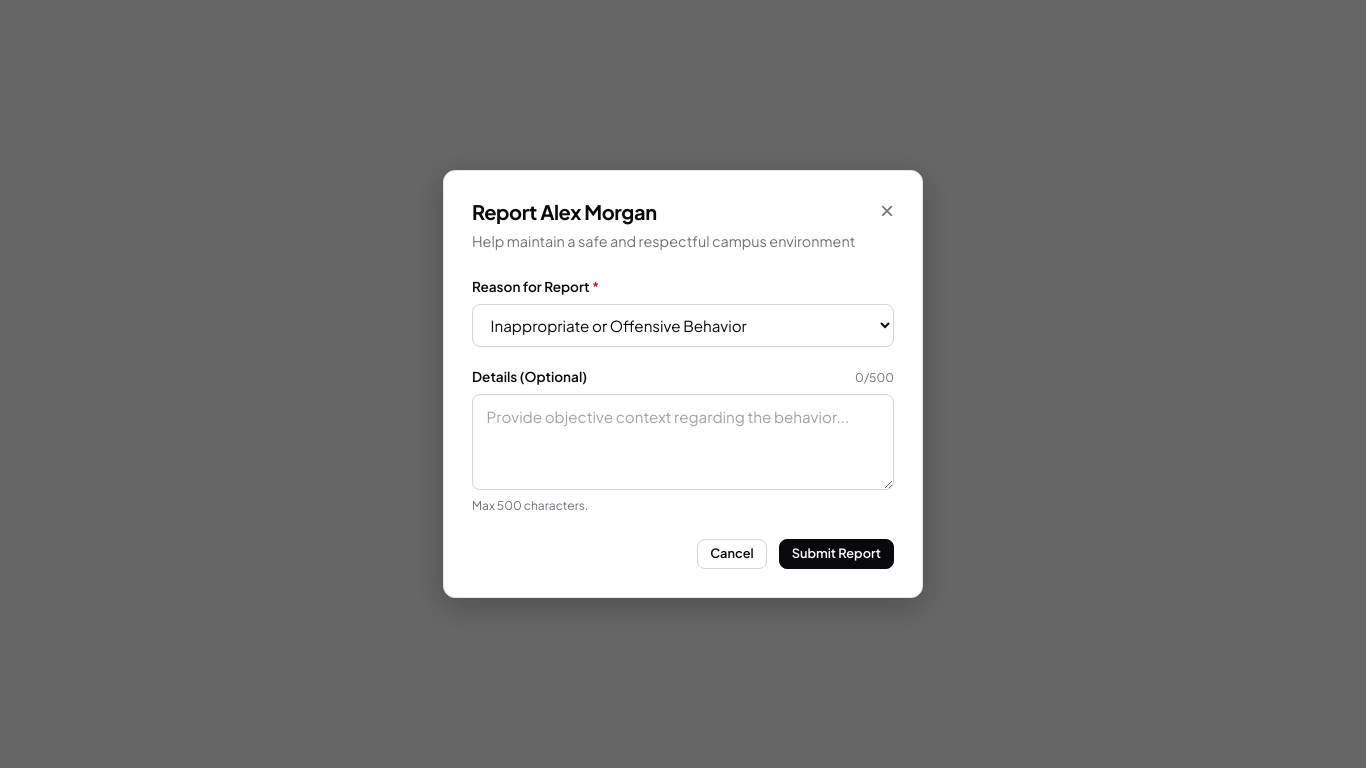
it: Modal Integration Tests › ReportModal › shows error alert when reporting fails
The image size is (1366, 768).
Click the button "Submit Report" at (836, 554), box x1=779 y1=539 x2=894 y2=569
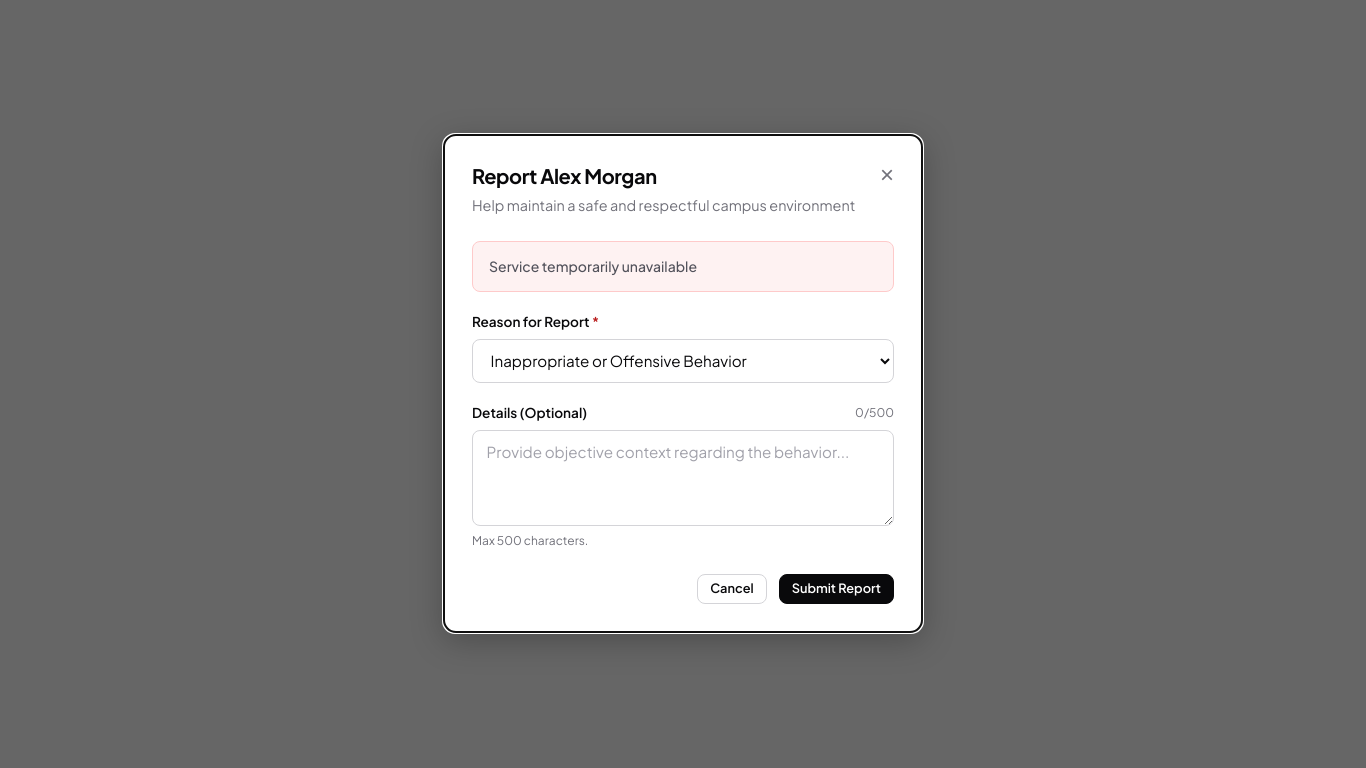
Result: the text "Service temporarily unavailable" is shown at x1=489 y1=258 x2=697 y2=276
